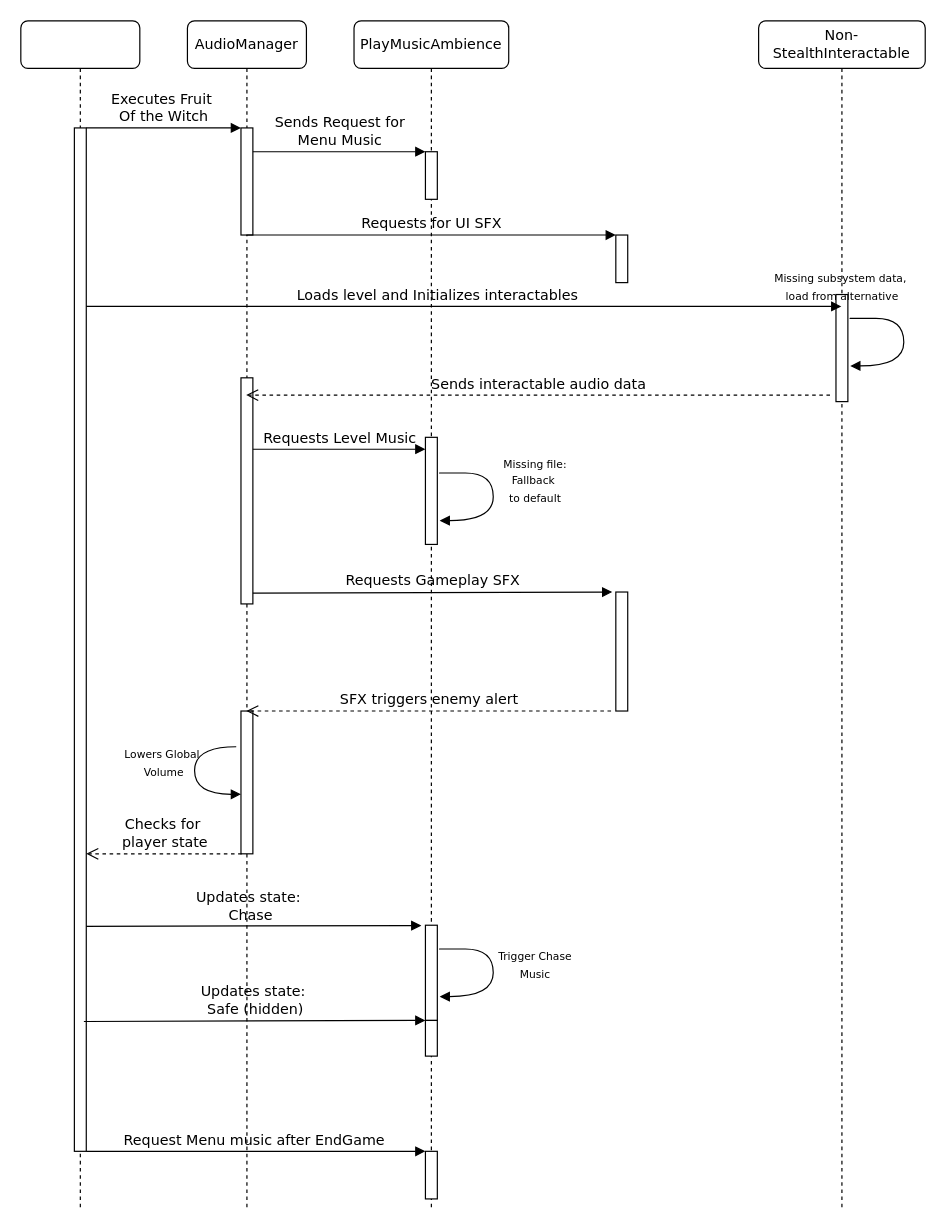
Image size: 946x1232. Some labels were removed from this diagram. The shapes that lost their labels are listed below. From the top down, each one's box as (x1, y1, x2, y2) in pixels, then its label:
(20, 20, 140, 1211): Player
(543, 20, 699, 1211): PlaySFX
